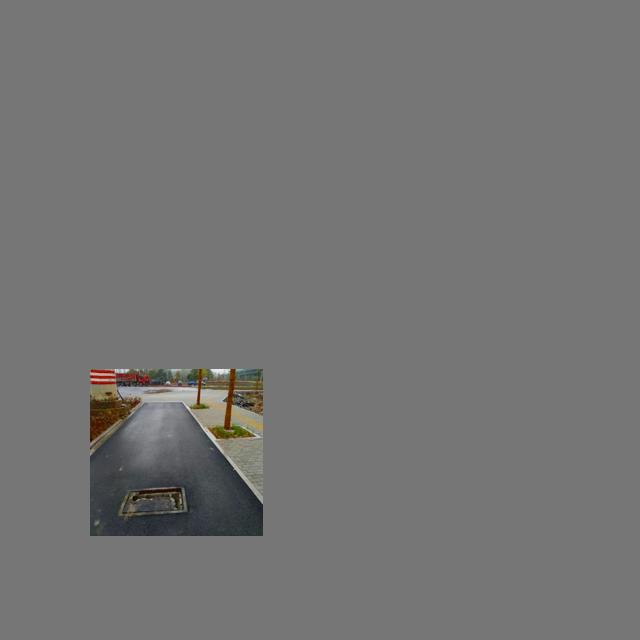broke: (118, 485, 188, 516)
